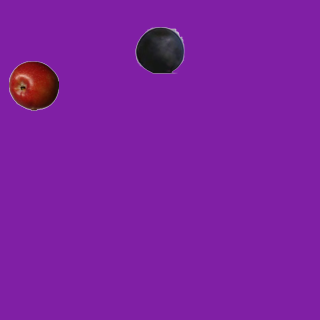Apple Braeburn: (8, 60, 58, 110)
Grape Blue: (134, 24, 184, 74)
